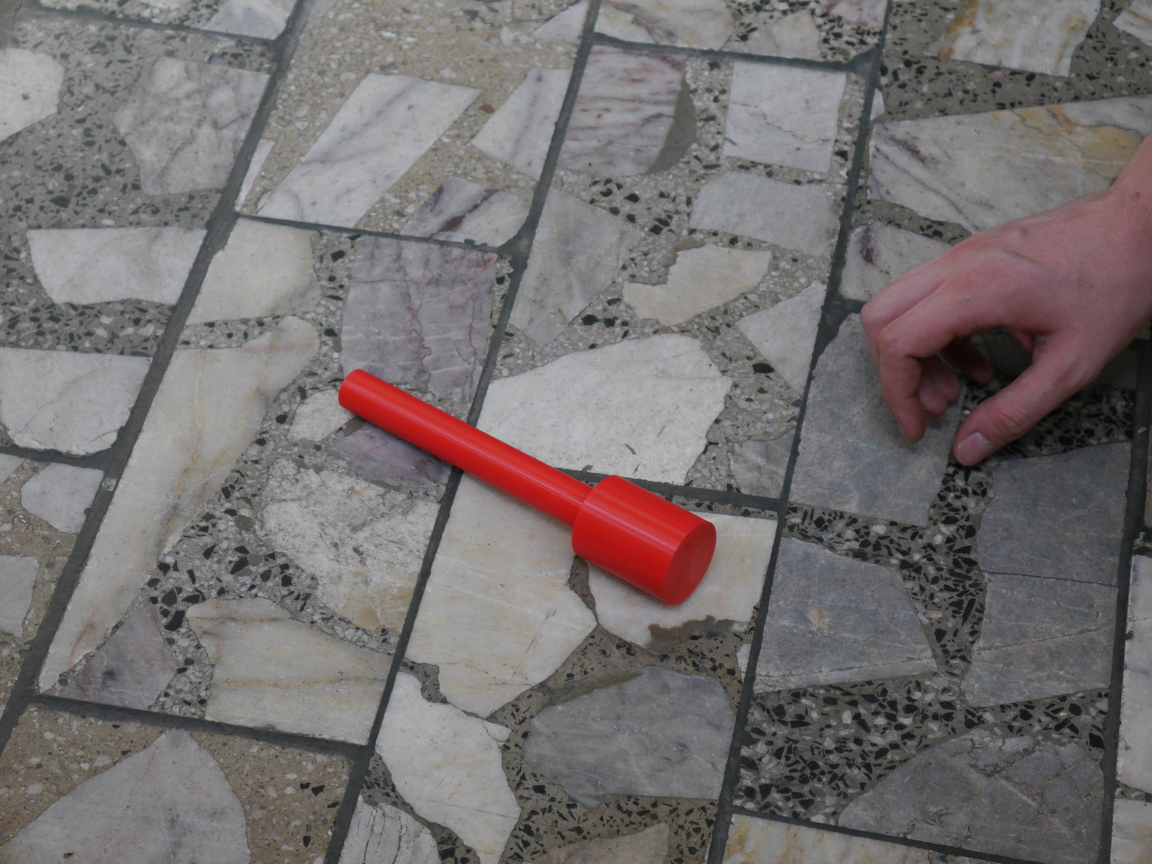cargo_g: (338, 367, 717, 607)
